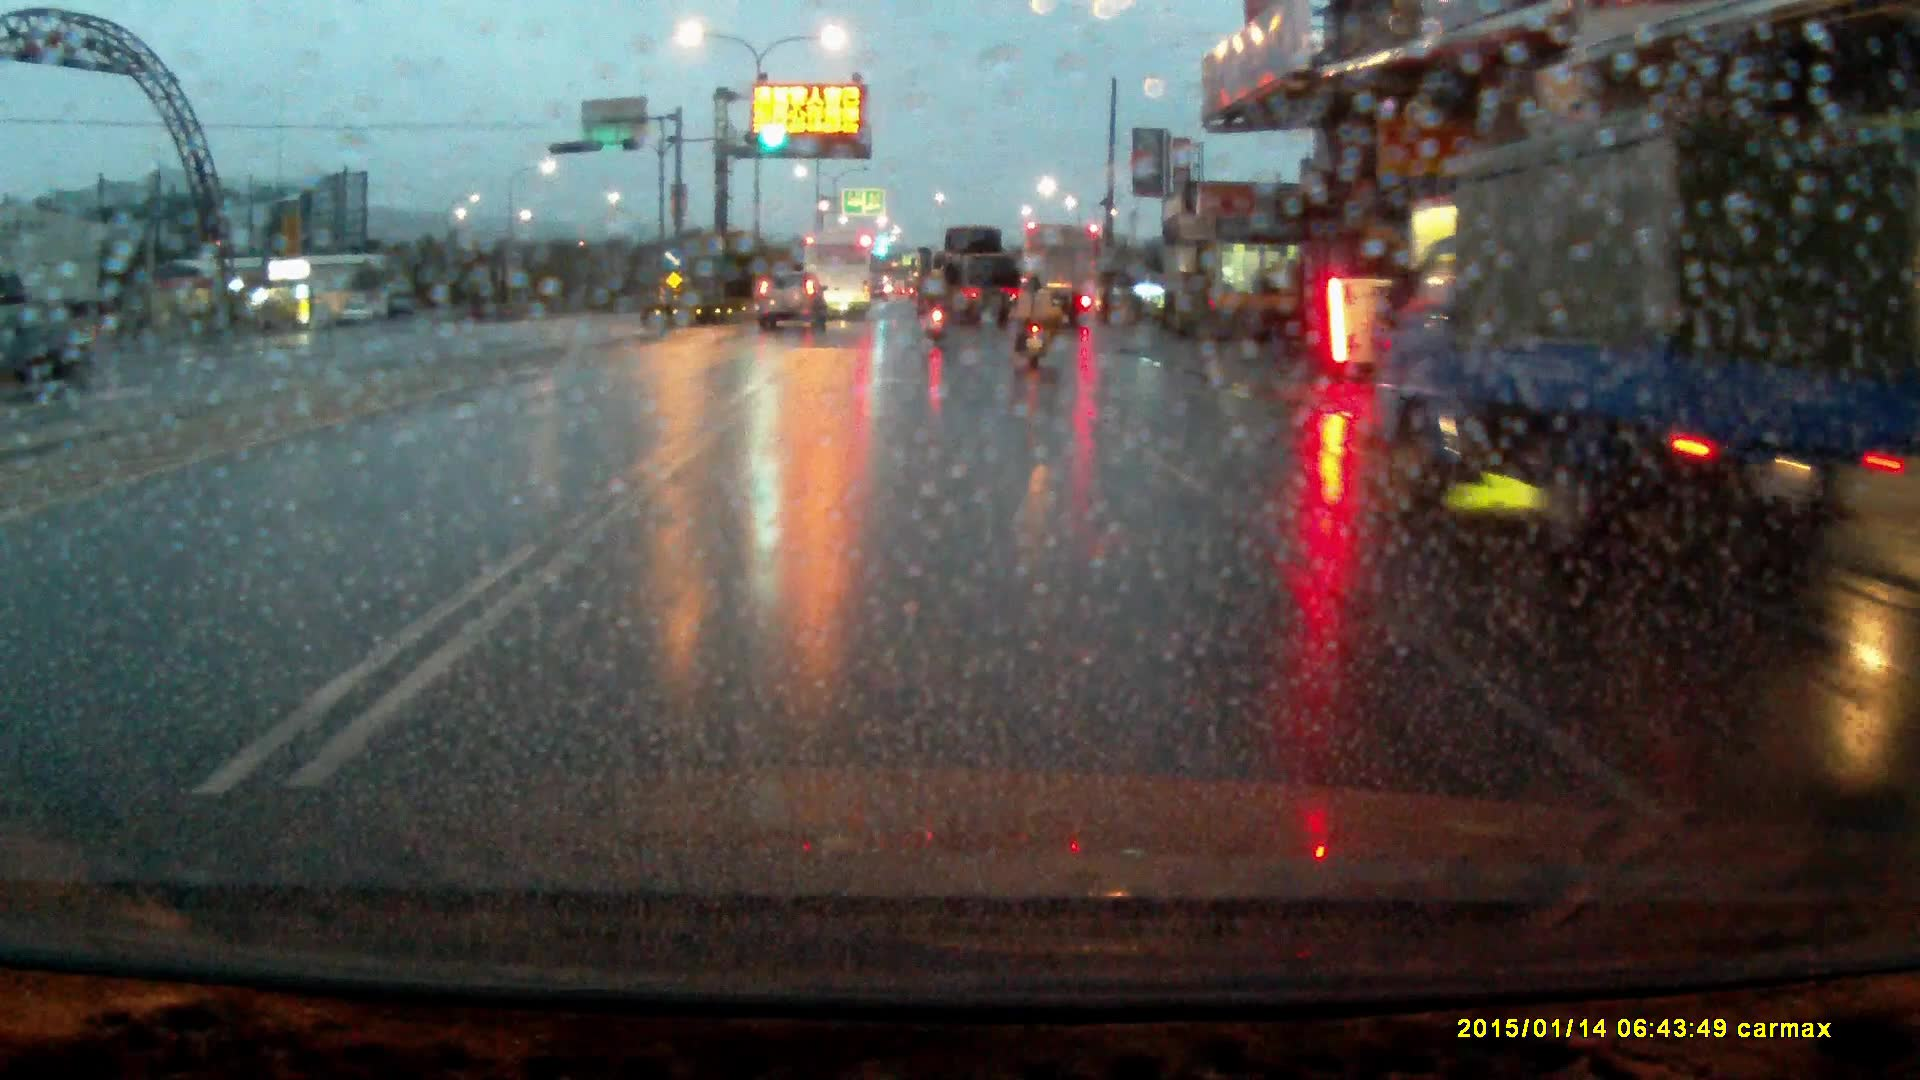rider: (1014, 269, 1051, 369), (925, 276, 949, 345)
vehicle: (1373, 99, 1845, 562), (932, 234, 1024, 343), (1024, 231, 1106, 330), (1, 324, 97, 404), (803, 239, 877, 329), (758, 279, 825, 340)
